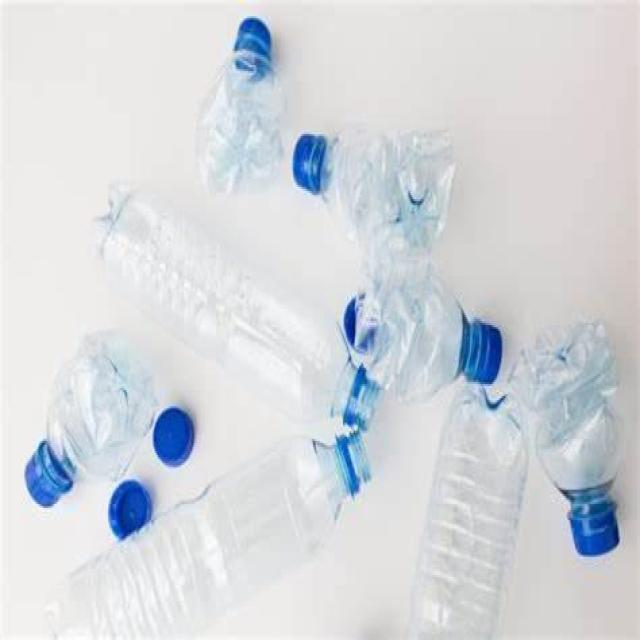plastic bottle: (90, 180, 383, 437), (46, 426, 373, 640), (405, 384, 531, 639), (512, 317, 626, 505), (320, 128, 454, 256), (45, 333, 157, 481), (350, 262, 468, 400), (194, 49, 286, 196)
plastic bottle cap: (107, 479, 152, 538), (153, 411, 195, 467), (571, 518, 619, 558), (346, 294, 376, 356), (24, 457, 61, 507), (292, 130, 320, 194), (482, 323, 503, 386), (239, 14, 272, 53)
